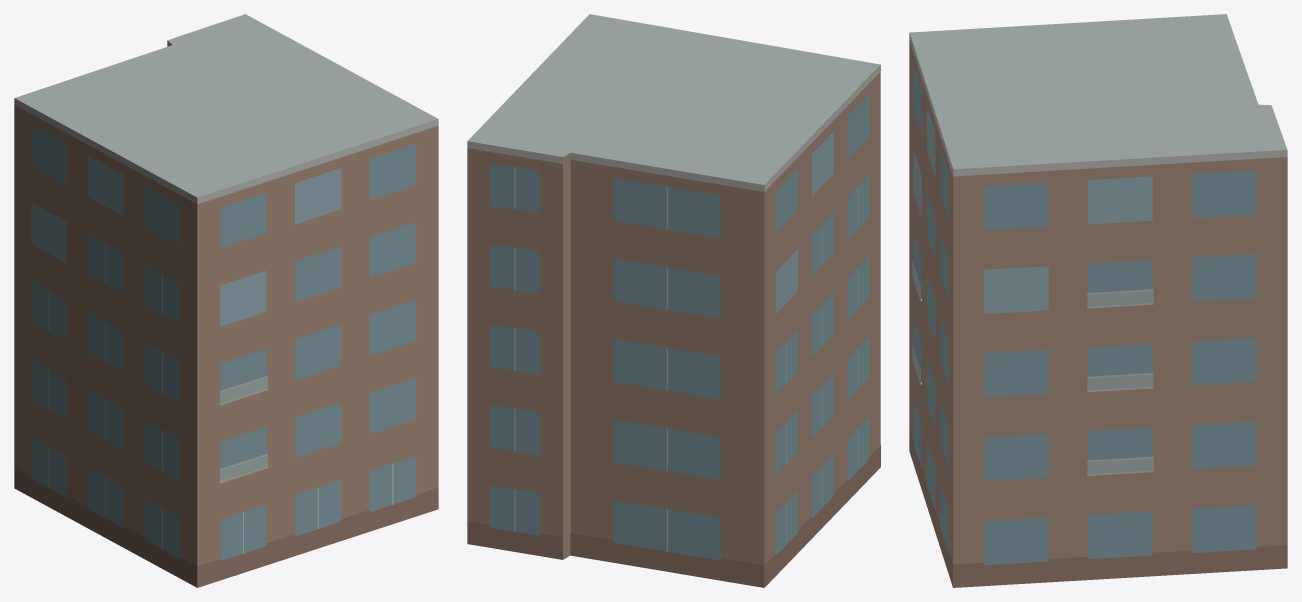
The model's file is survey-upis-32720427.glb.
3 views of the same model, side by side, from view 1: azimuth 30°, elevation 25°; view 2: azimuth 150°, elevation 25°; view 3: azimuth 270°, elevation 25° (orthographic). The views are drawn at different scales.
Parts seen in each view (by area): view 1: survey-upis-32720427.tmp; view 2: survey-upis-32720427.tmp; view 3: survey-upis-32720427.tmp.
Boxes of the visible parts, x1,y1,x2,y2 form: survey-upis-32720427.tmp: (14, 14, 438, 587); survey-upis-32720427.tmp: (467, 14, 880, 587); survey-upis-32720427.tmp: (909, 14, 1287, 587).
Bounding box in the file's own units: 11.32 × 14.2 × 11.64.
